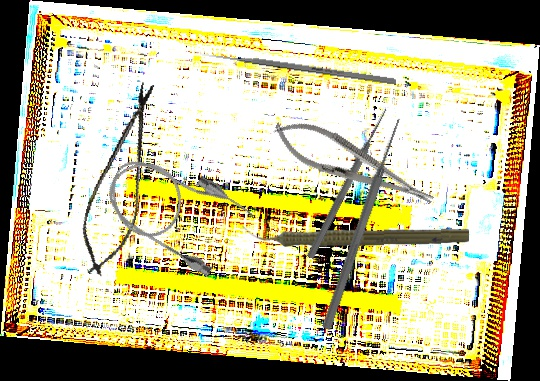Cannula: (93, 137, 259, 283)
Handpiece: (241, 220, 470, 251)
Micro Scissor: (70, 76, 171, 282)
Needle Holder: (266, 108, 441, 221)
Pusher: (319, 114, 407, 332), (305, 107, 391, 260), (199, 50, 397, 85)
